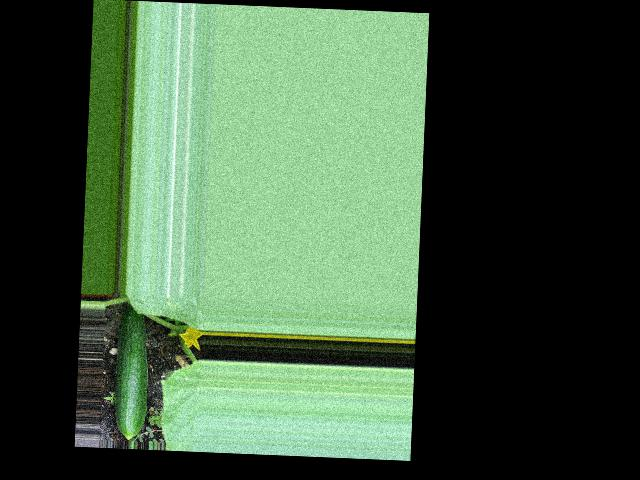cucumber: (112, 305, 150, 441)
